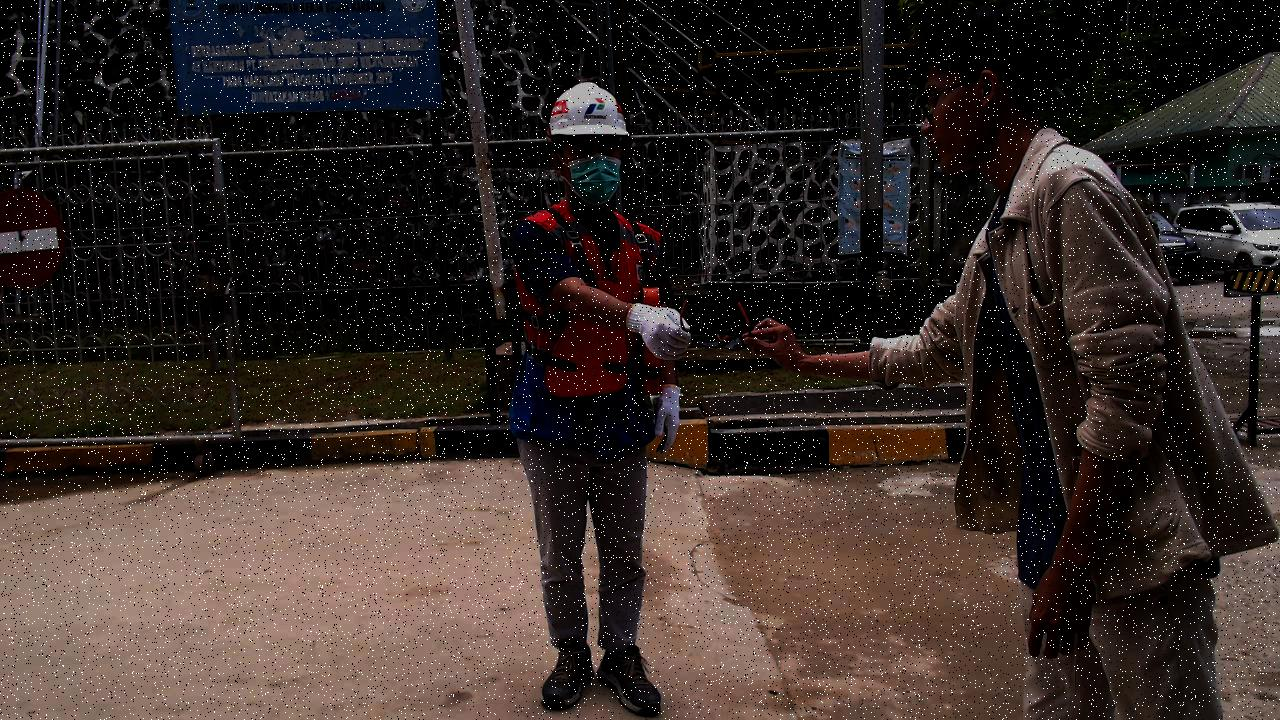glasses: (676, 293, 756, 372)
gloves: (625, 299, 690, 364), (651, 378, 685, 455)
helmet: (550, 80, 631, 138)
mask: (567, 153, 625, 207)
safety-shoes: (597, 644, 667, 715), (540, 640, 599, 709)
vest: (541, 277, 664, 403)
